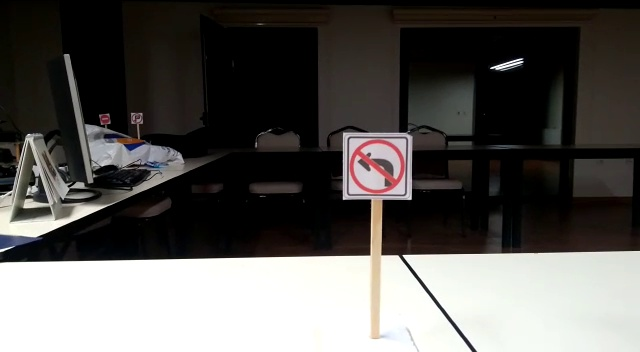sola_donulmez: (349, 140, 403, 193)
